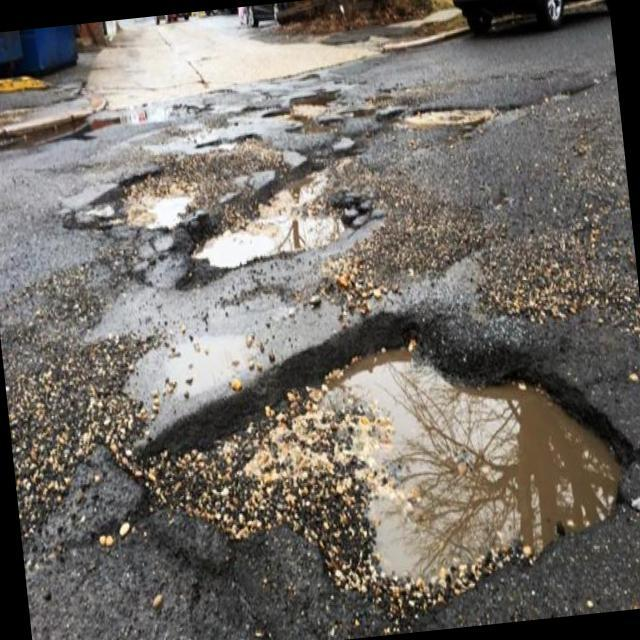Pothole: (144, 348, 618, 604), (194, 170, 373, 269), (126, 186, 195, 227)
